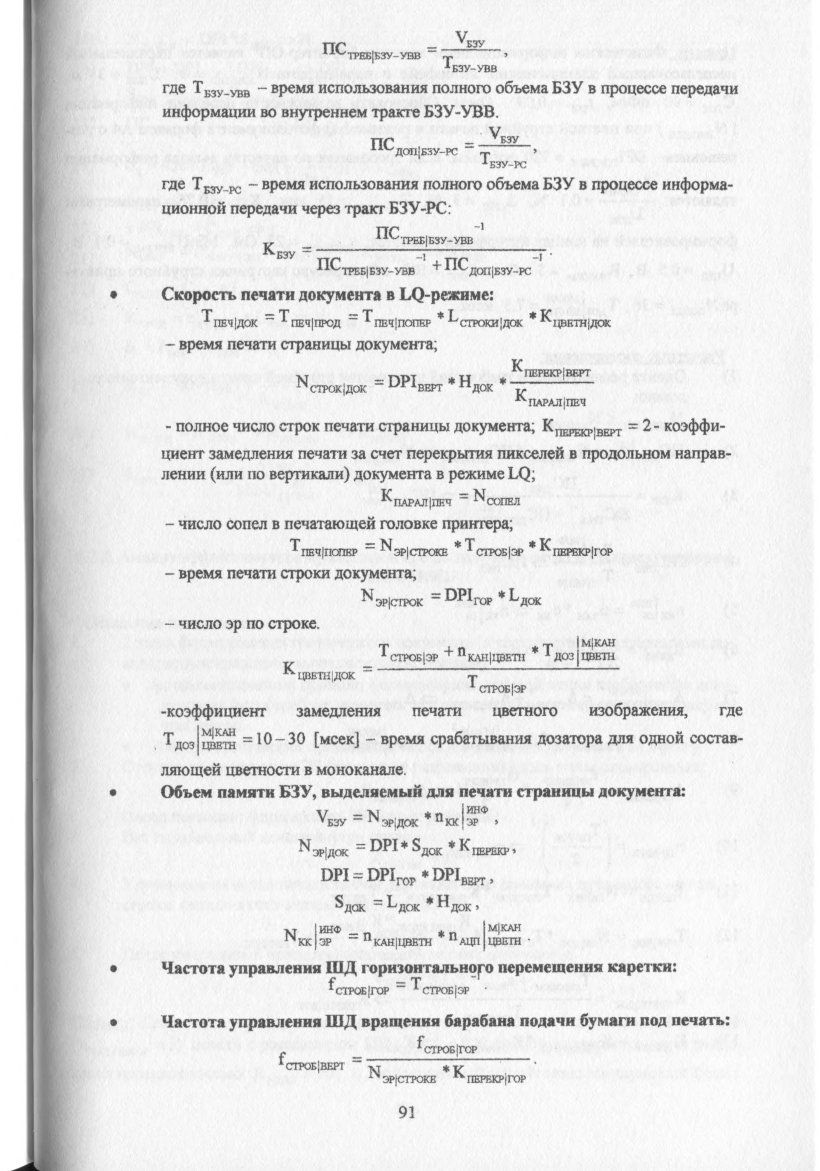DPI: (319, 866, 350, 884), (369, 836, 399, 853)
DPI.верт: (386, 371, 444, 397), (430, 864, 487, 887)
DPI.гор: (443, 586, 493, 608), (365, 865, 417, 886)
H.док: (456, 371, 495, 395)
K.бзу: (259, 239, 297, 261)
K.парал.печ: (513, 387, 590, 408)
K.перекр.верт: (509, 354, 593, 379)
K.перекр.гор: (450, 1063, 530, 1088), (536, 535, 615, 559)
K.цветн.док: (537, 306, 613, 331), (281, 658, 356, 682)
L.док: (507, 585, 543, 608)
L.строки.док: (446, 306, 523, 331)
N.строк.док: (295, 371, 367, 395)
N.эр.док: (296, 837, 349, 860), (365, 808, 419, 830)
N.эр.строке: (369, 1063, 436, 1089), (357, 585, 424, 609), (378, 537, 448, 558)
T.бзу-рс: (479, 150, 530, 169)
T.бзу-увв: (440, 53, 499, 74)
T.печ.попер: (359, 306, 434, 330), (288, 537, 360, 558)
T.печ.прод: (276, 305, 345, 329)
T.строб.эр: (464, 671, 529, 696), (377, 641, 438, 665), (462, 537, 524, 557)
V.бзу: (312, 806, 347, 829), (452, 28, 488, 48), (487, 125, 521, 143)
group: (294, 353, 597, 413), (254, 220, 550, 280), (283, 533, 622, 564), (314, 23, 504, 75), (361, 119, 535, 171), (354, 583, 548, 610)
n.кан.цветн: (456, 644, 526, 665), (361, 928, 432, 948)
n.кк.инф.эр: (281, 920, 343, 947), (434, 801, 489, 828)
ПС.доп.бзу-рс: (441, 254, 534, 278), (368, 136, 459, 158)
ПС.треб.бзу-увв: (320, 39, 423, 61), (315, 256, 416, 278), (374, 225, 475, 245)
